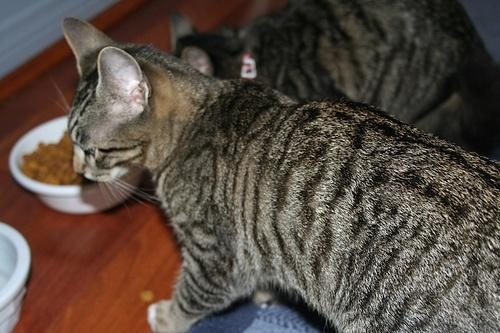cat: (61, 17, 500, 333), (166, 3, 500, 134)
